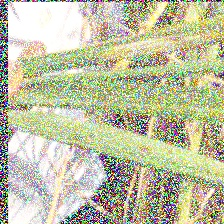Bacterial_Leaf_Blight: (131, 144, 154, 154), (66, 132, 86, 142), (163, 145, 176, 154), (160, 70, 174, 78), (70, 83, 80, 93), (215, 27, 224, 35), (146, 89, 155, 96)
